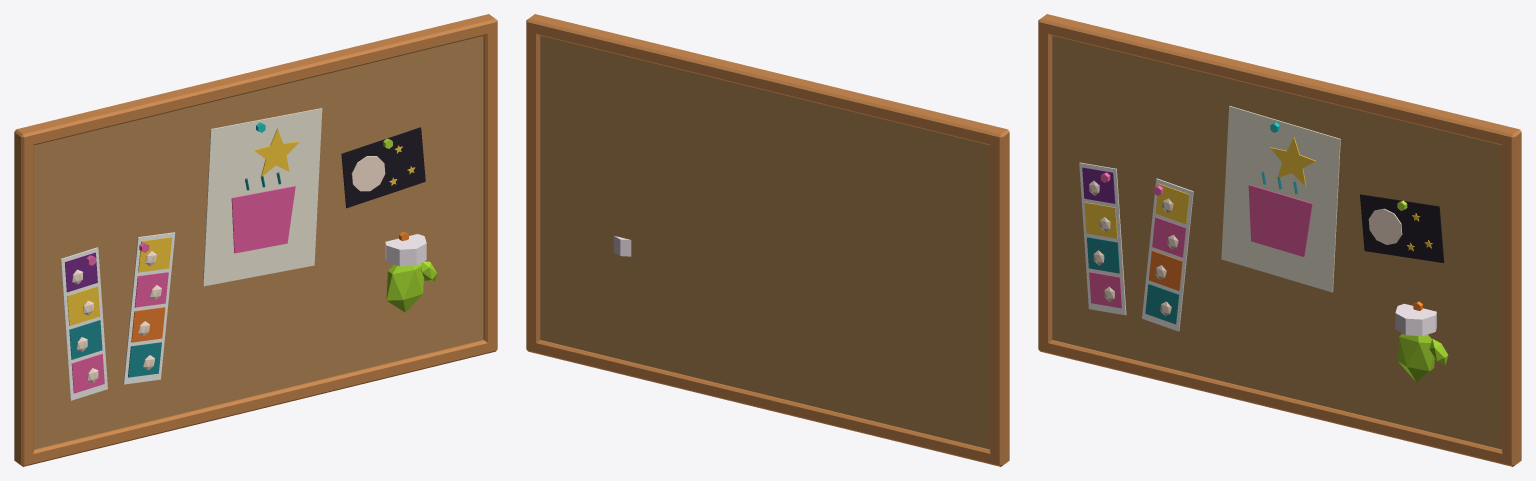
3 renders of one model, left to right at view 1: azimuth 30°, elevation 25°; view 2: azimuth 150°, elevation 25°; view 3: azimuth 330°, elevation 25°, orthographic.
Visible parts, largest first — view 1: cork, drawing_paper, frame_top, frame_bottom, frame_left, frame_right, photo_strip_1, photo_strip_0, postcard, drawn_cup, photo_strip_1_paper, photo_strip_0_paper (+4 smaller); view 2: cork, frame_top, frame_bottom, frame_left, frame_right; view 3: cork, drawing_paper, frame_top, frame_bottom, frame_right, frame_left, photo_strip_1, photo_strip_0, postcard, drawn_cup, photo_strip_0_paper, photo_strip_1_paper (+4 smaller).
Part boxes in pixels (x1,y1,x2,y2): cork: (34,36,483,449); drawing_paper: (203,108,322,286); frame_top: (21,16,487,145); frame_bottom: (23,340,496,466); frame_left: (14,127,33,466); frame_right: (480,14,497,353); photo_strip_1: (128,237,172,377); photo_strip_0: (65,252,104,393); postcard: (341,127,425,208); drawn_cup: (231,186,295,253); photo_strip_1_paper: (123,232,175,384); photo_strip_0_paper: (60,247,107,400); cork: (540,36,989,449); frame_top: (528,16,1001,146); frame_bottom: (527,340,1001,466); frame_left: (990,127,1009,466); frame_right: (526,14,543,353); cork: (1052,36,1501,449); drawing_paper: (1221,106,1340,292); frame_top: (1039,16,1511,146); frame_bottom: (1039,340,1512,466); frame_right: (1502,127,1521,466); frame_left: (1038,14,1055,353); photo_strip_1: (1145,183,1189,324); photo_strip_0: (1082,167,1122,308); postcard: (1360,194,1444,262); drawn_cup: (1248,184,1312,256); photo_strip_0_paper: (1079,162,1126,315); photo_strip_1_paper: (1142,178,1193,331).
Size of the model in its own units: 0.9 by 0.6 by 0.072.
